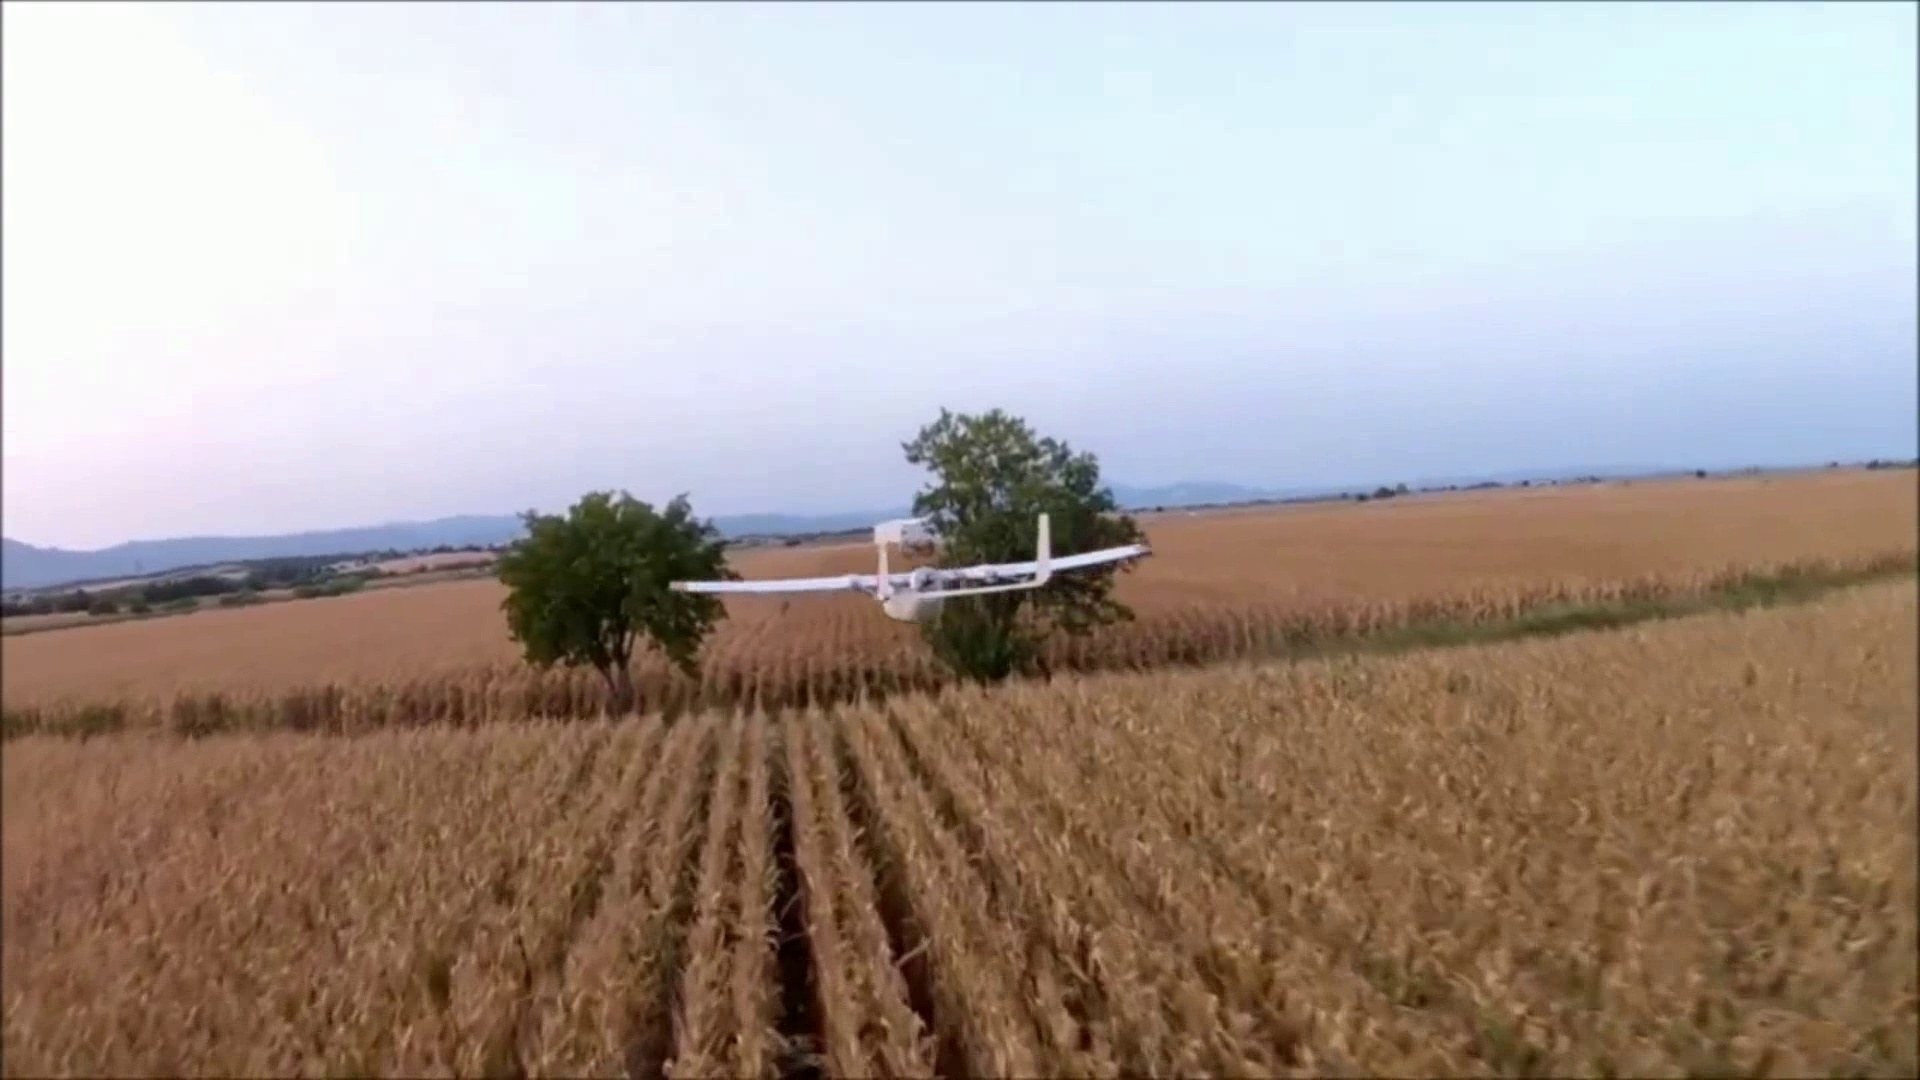airplane: (671, 518, 1150, 624)
